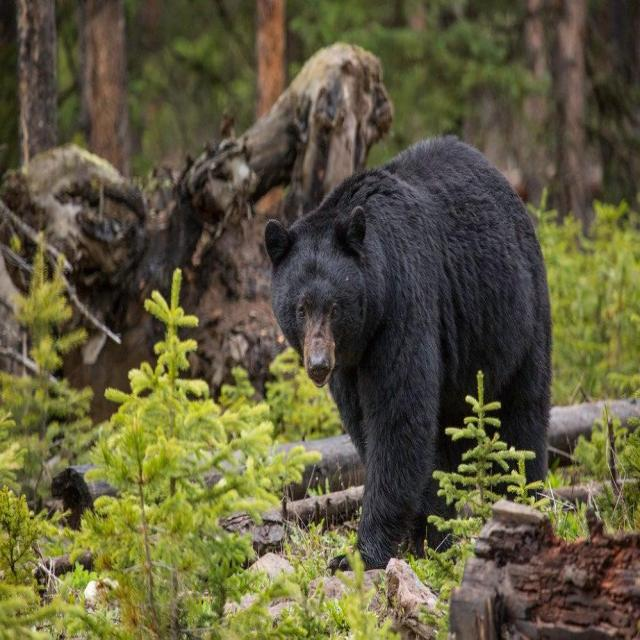Bear: (263, 136, 555, 573)
